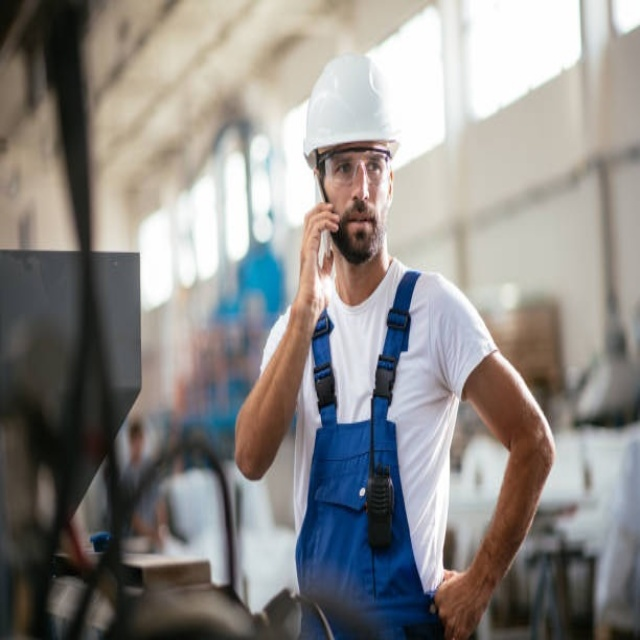Gafas: (318, 149, 393, 188)
Sin_guantes: (292, 198, 341, 312), (432, 562, 486, 639)
Sin_mascara: (342, 205, 380, 248)
